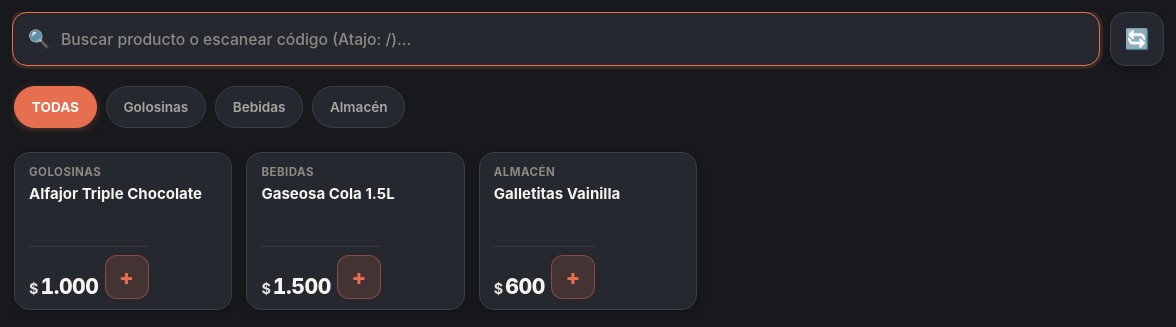
Test: Ajuste Final del Buscador de Productos (Prioridad y Resaltado en Nombre) › muestra el mensaje de catálogo vacío ante una búsqueda sin resultados
In the field with test id "search-input": (556, 39) [12,12,1100,66], type "inexistente999"
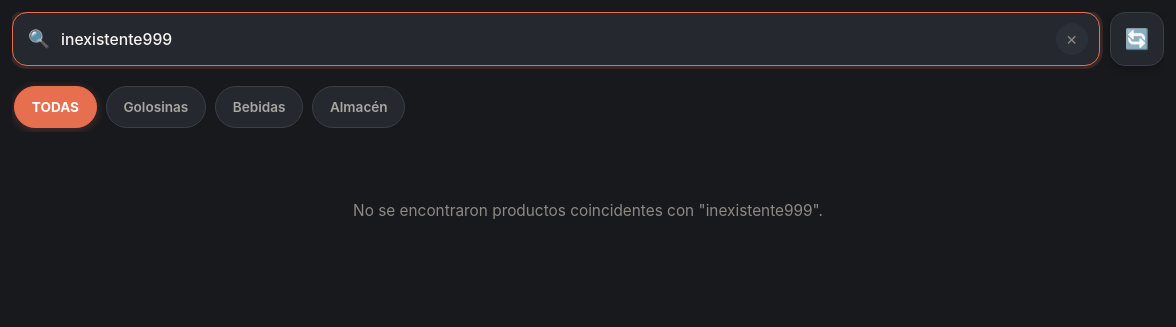
Expected: the text "No se encontraron productos coincidentes con \"inexistente999\"." is shown, [353,201,823,220]
